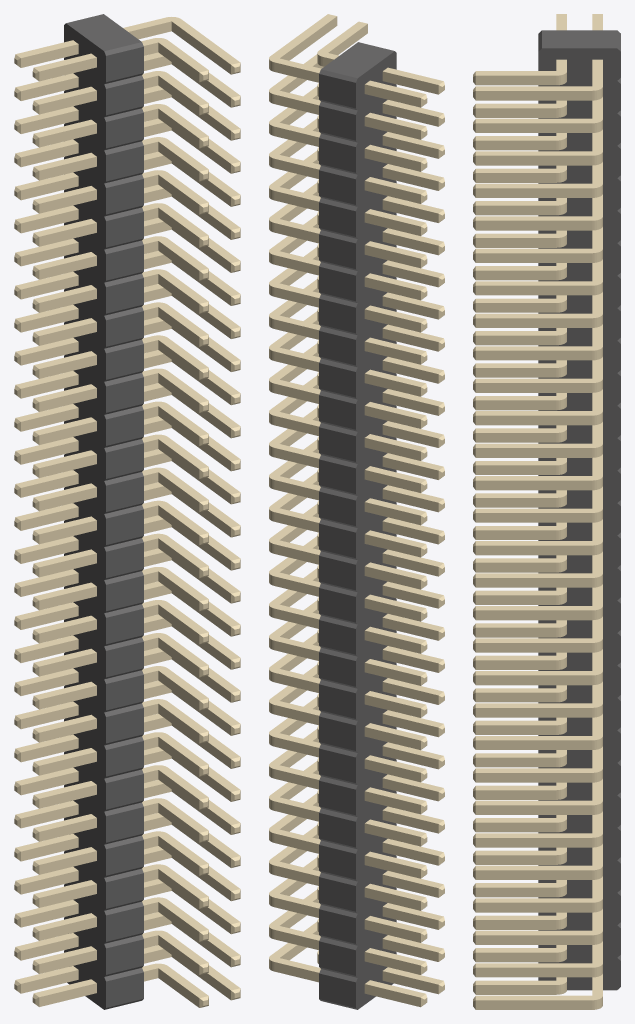
File: PinHeader_2x29_P1.00mm_Horizontal.glb
3 renders of one model, left to right at view 1: azimuth 30°, elevation 25°; view 2: azimuth 150°, elevation 25°; view 3: azimuth 270°, elevation 25°, orthographic. The views are drawn at different scales.
Parts seen in each view (by area): view 1: Shape_IndexedFaceSet.004, Shape_IndexedFaceSet.001, Shape_IndexedFaceSet.010, Shape_IndexedFaceSet.016, Shape_IndexedFaceSet.040, Shape_IndexedFaceSet.046, Shape_IndexedFaceSet.058, Shape_IndexedFaceSet.094, Shape_IndexedFaceSet.112, Shape_IndexedFaceSet.118, Shape_IndexedFaceSet.136, Shape_IndexedFaceSet.142 (+108 smaller); view 2: Shape_IndexedFaceSet.004, Shape_IndexedFaceSet.001, Shape_IndexedFaceSet.037, Shape_IndexedFaceSet.049, Shape_IndexedFaceSet.085, Shape_IndexedFaceSet.121, Shape_IndexedFaceSet.133, Shape_IndexedFaceSet.013, Shape_IndexedFaceSet.025, Shape_IndexedFaceSet.061, Shape_IndexedFaceSet.073, Shape_IndexedFaceSet.091 (+137 smaller); view 3: Shape_IndexedFaceSet.003, Shape_IndexedFaceSet.001, Shape_IndexedFaceSet.713, Shape_IndexedFaceSet.788, Shape_IndexedFaceSet.799, Shape_IndexedFaceSet.899, Shape_IndexedFaceSet.903, Shape_IndexedFaceSet.753, Shape_IndexedFaceSet.763, Shape_IndexedFaceSet.768, Shape_IndexedFaceSet.783, Shape_IndexedFaceSet.808 (+106 smaller).
Part boxes in pixels (x1=…): Shape_IndexedFaceSet.004: x1=64, y1=23, x2=105, y2=1009; Shape_IndexedFaceSet.001: x1=66, y1=14, x2=141, y2=51; Shape_IndexedFaceSet.010: x1=106, y1=79, x2=143, y2=115; Shape_IndexedFaceSet.016: x1=106, y1=113, x2=143, y2=148; Shape_IndexedFaceSet.040: x1=106, y1=245, x2=143, y2=280; Shape_IndexedFaceSet.046: x1=106, y1=278, x2=143, y2=313; Shape_IndexedFaceSet.058: x1=106, y1=344, x2=143, y2=379; Shape_IndexedFaceSet.094: x1=106, y1=542, x2=143, y2=577; Shape_IndexedFaceSet.112: x1=106, y1=642, x2=143, y2=677; Shape_IndexedFaceSet.118: x1=106, y1=675, x2=143, y2=710; Shape_IndexedFaceSet.136: x1=106, y1=774, x2=143, y2=809; Shape_IndexedFaceSet.142: x1=106, y1=807, x2=143, y2=842; Shape_IndexedFaceSet.004: x1=356, y1=51, x2=396, y2=1009; Shape_IndexedFaceSet.001: x1=321, y1=42, x2=394, y2=78; Shape_IndexedFaceSet.037: x1=319, y1=234, x2=355, y2=268; Shape_IndexedFaceSet.049: x1=319, y1=298, x2=355, y2=333; Shape_IndexedFaceSet.085: x1=319, y1=491, x2=355, y2=525; Shape_IndexedFaceSet.121: x1=319, y1=684, x2=355, y2=718; Shape_IndexedFaceSet.133: x1=319, y1=748, x2=355, y2=782; Shape_IndexedFaceSet.013: x1=319, y1=106, x2=355, y2=140; Shape_IndexedFaceSet.025: x1=319, y1=170, x2=355, y2=204; Shape_IndexedFaceSet.061: x1=319, y1=363, x2=355, y2=397; Shape_IndexedFaceSet.073: x1=319, y1=427, x2=355, y2=461; Shape_IndexedFaceSet.091: x1=319, y1=523, x2=355, y2=558; Shape_IndexedFaceSet.003: x1=538, y1=48, x2=620, y2=990; Shape_IndexedFaceSet.001: x1=542, y1=30, x2=617, y2=48; Shape_IndexedFaceSet.713: x1=475, y1=902, x2=592, y2=912; Shape_IndexedFaceSet.788: x1=475, y1=675, x2=592, y2=685; Shape_IndexedFaceSet.799: x1=475, y1=610, x2=592, y2=620; Shape_IndexedFaceSet.899: x1=475, y1=220, x2=592, y2=230; Shape_IndexedFaceSet.903: x1=475, y1=155, x2=592, y2=165; Shape_IndexedFaceSet.753: x1=475, y1=967, x2=592, y2=977; Shape_IndexedFaceSet.763: x1=475, y1=350, x2=592, y2=360; Shape_IndexedFaceSet.768: x1=475, y1=415, x2=592, y2=425; Shape_IndexedFaceSet.783: x1=475, y1=480, x2=592, y2=490; Shape_IndexedFaceSet.808: x1=475, y1=545, x2=592, y2=555.
Bounding box in the file's own units: 2.03 × 11.42 × 1.62.
